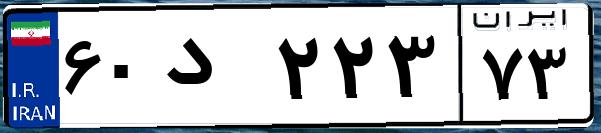0: (110, 28, 158, 98)
2: (270, 28, 330, 110), (330, 28, 385, 110)
3: (385, 28, 445, 110), (525, 38, 570, 115)
6: (57, 26, 110, 100)
7: (475, 38, 525, 113)
د: (158, 20, 270, 120)
